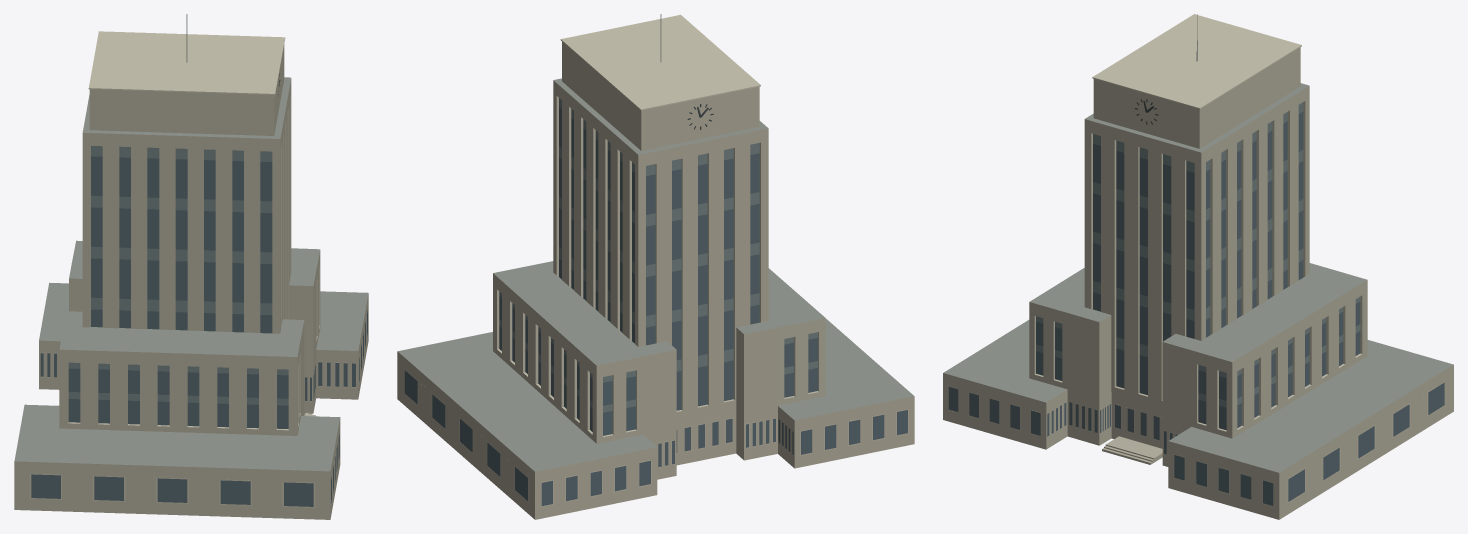
Rendered from houston-city-hall-far.glb.
3 views of the same model, side by side, from view 1: azimuth 30°, elevation 25°; view 2: azimuth 150°, elevation 25°; view 3: azimuth 270°, elevation 25° (orthographic). The views are drawn at different scales.
Parts seen in each view (by area): view 1: houston-city-hall-0-stone, houston-city-hall-0-roof, houston-city-hall-0-glass, houston-city-hall-0-trim, houston-city-hall-0-spandrel; view 2: houston-city-hall-0-stone, houston-city-hall-0-roof, houston-city-hall-0-glass, houston-city-hall-0-trim, houston-city-hall-0-spandrel; view 3: houston-city-hall-0-stone, houston-city-hall-0-roof, houston-city-hall-0-glass, houston-city-hall-0-trim, houston-city-hall-0-spandrel.
Boxes of the visible parts, box(x1,y1,x2,y2) form: houston-city-hall-0-stone: box(14, 45, 368, 519); houston-city-hall-0-roof: box(14, 77, 368, 471); houston-city-hall-0-glass: box(31, 156, 367, 506); houston-city-hall-0-trim: box(29, 31, 367, 507); houston-city-hall-0-spandrel: box(68, 146, 288, 405); houston-city-hall-0-stone: box(397, 42, 914, 519); houston-city-hall-0-roof: box(398, 78, 913, 471); houston-city-hall-0-glass: box(404, 107, 907, 505); houston-city-hall-0-trim: box(404, 14, 908, 506); houston-city-hall-0-spandrel: box(499, 98, 817, 412); houston-city-hall-0-stone: box(943, 47, 1453, 519); houston-city-hall-0-roof: box(943, 83, 1453, 472); houston-city-hall-0-glass: box(948, 112, 1444, 505); houston-city-hall-0-trim: box(948, 14, 1445, 506); houston-city-hall-0-spandrel: box(1036, 102, 1360, 407).
Size of the model in its own units: 75.53 by 68 by 78.68.
